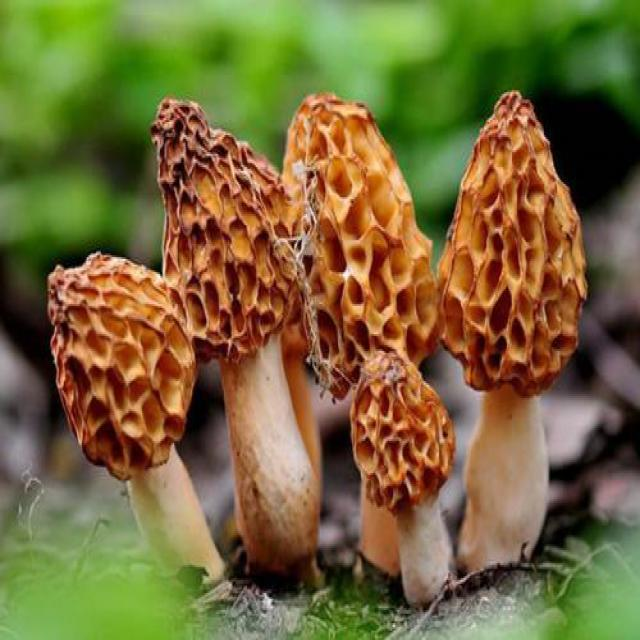Morchella esculenta: (287, 98, 457, 605), (154, 97, 324, 555), (439, 91, 586, 570), (50, 253, 223, 589)
